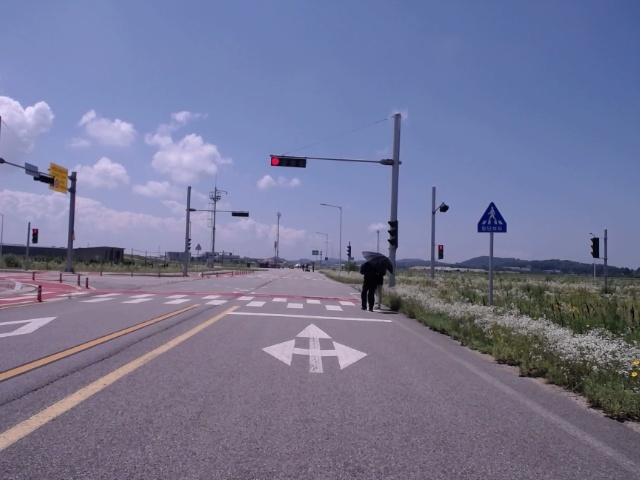red_4: (270, 156, 306, 168)
